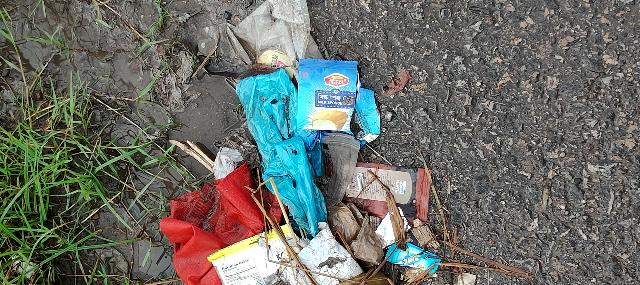polythene: (230, 77, 336, 228)
